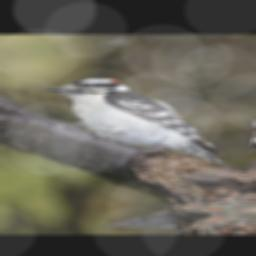Woodpecker: (39, 68, 228, 182)
